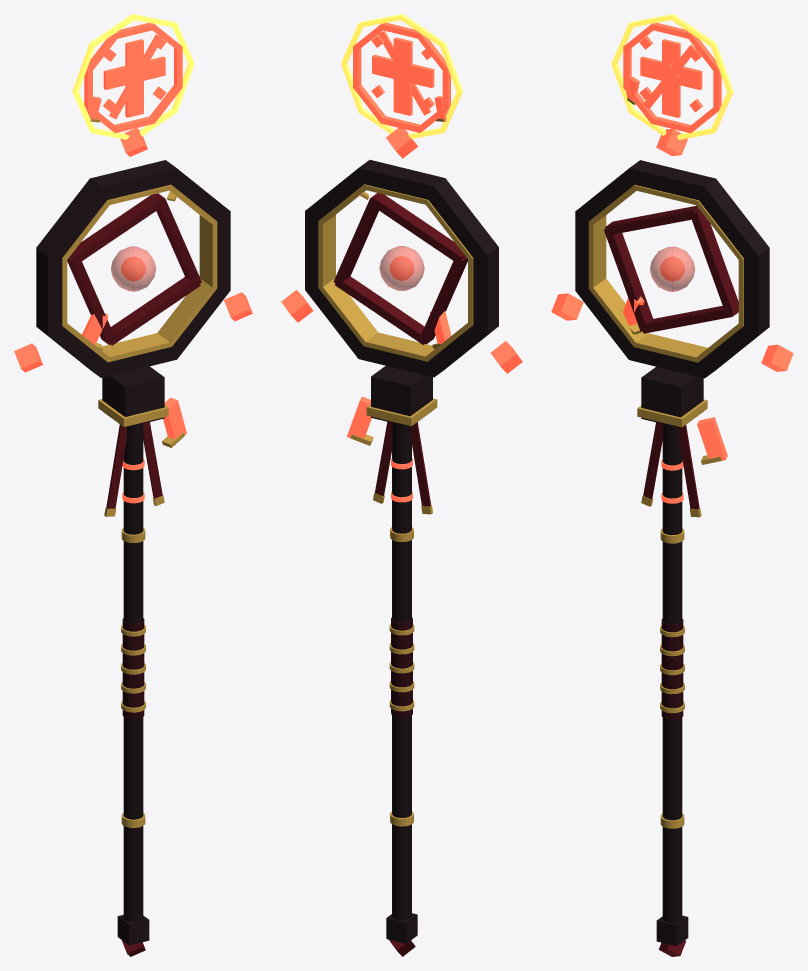
3 views of the same model, side by side, from view 1: azimuth 30°, elevation 25°; view 2: azimuth 150°, elevation 25°; view 3: azimuth 330°, elevation 25° (orthographic).
Parts seen in each view (by area): view 1: riftscar-staff; view 2: riftscar-staff; view 3: riftscar-staff.
Part boxes in pixels (box(x1,y1,x2,y2)): riftscar-staff: box(14, 14, 252, 956); riftscar-staff: box(281, 14, 522, 956); riftscar-staff: box(551, 14, 793, 956).
Size of the model in its own units: 0.6156 by 2.37 by 0.1179.
